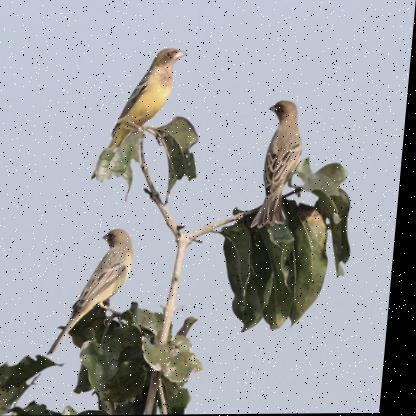Burung: (92, 47, 190, 179), (54, 229, 139, 356), (257, 102, 307, 228)
